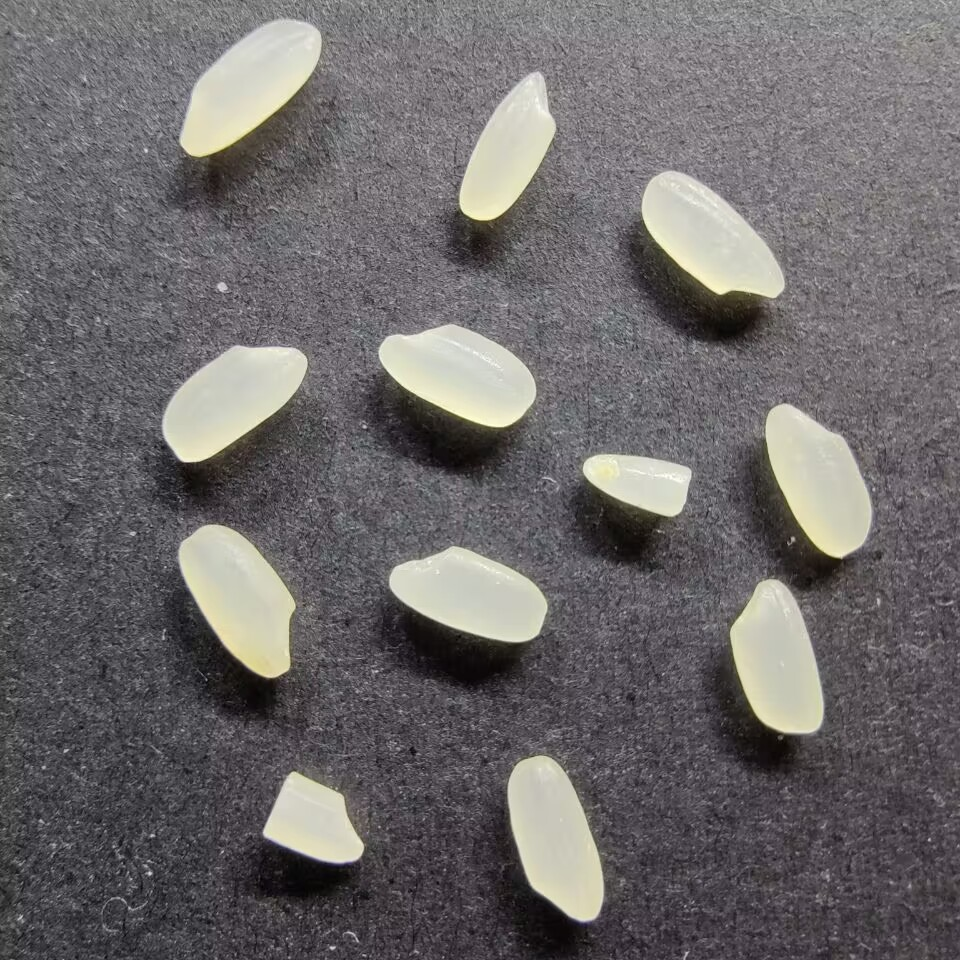broken: (260, 771, 366, 865), (580, 452, 693, 518)
rice: (178, 16, 322, 159), (639, 167, 787, 300), (176, 523, 297, 680), (160, 342, 309, 465), (504, 753, 606, 923), (764, 402, 872, 560), (377, 324, 537, 428), (386, 544, 549, 645), (728, 577, 827, 736), (458, 67, 557, 223)
